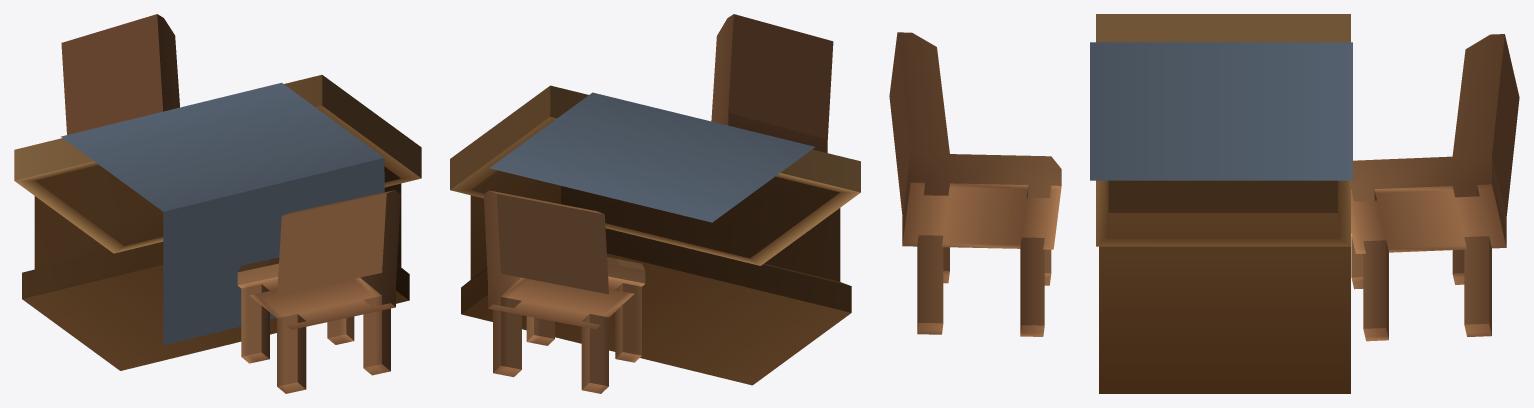
File: meja_guild_b.glb
3 views of the same model, side by side, from view 1: azimuth 30°, elevation 25°; view 2: azimuth 150°, elevation 25°; view 3: azimuth 270°, elevation 25° (orthographic). The views are drawn at different scales.
Parts seen in each view (by area): view 1: Plane036; view 2: Plane036; view 3: Plane036.
Part boxes in pixels (x1=…): Plane036: x1=14, y1=14, x2=421, y2=393; Plane036: x1=450, y1=14, x2=860, y2=393; Plane036: x1=889, y1=14, x2=1519, y2=393.
Bounding box in the file's own units: 0.9084 × 0.5302 × 1.26.
Materials: 1 (1 with a texture image).
